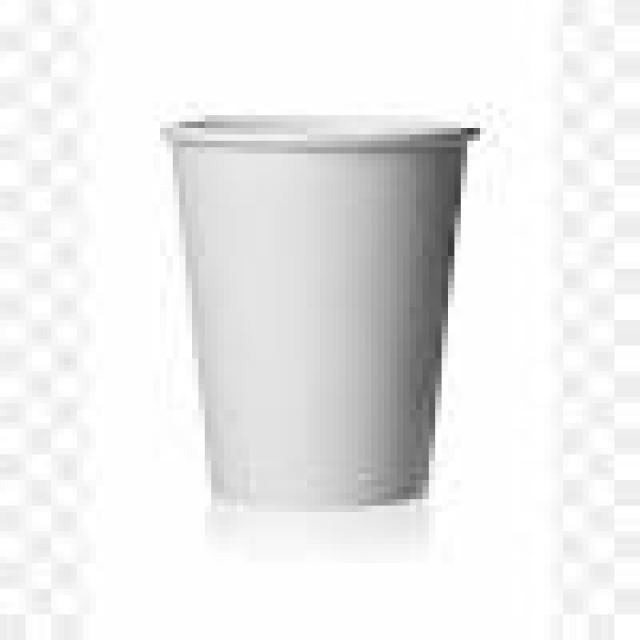PaperCardboard: (167, 105, 466, 509)
